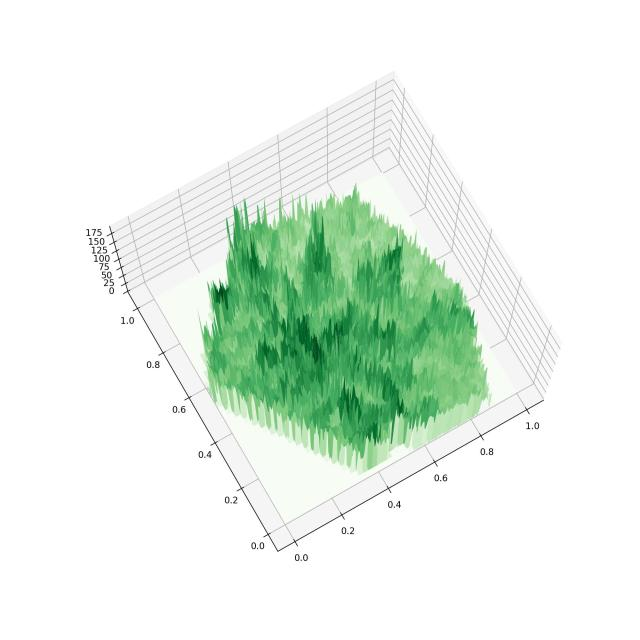spruce: (71, 31, 598, 589)
